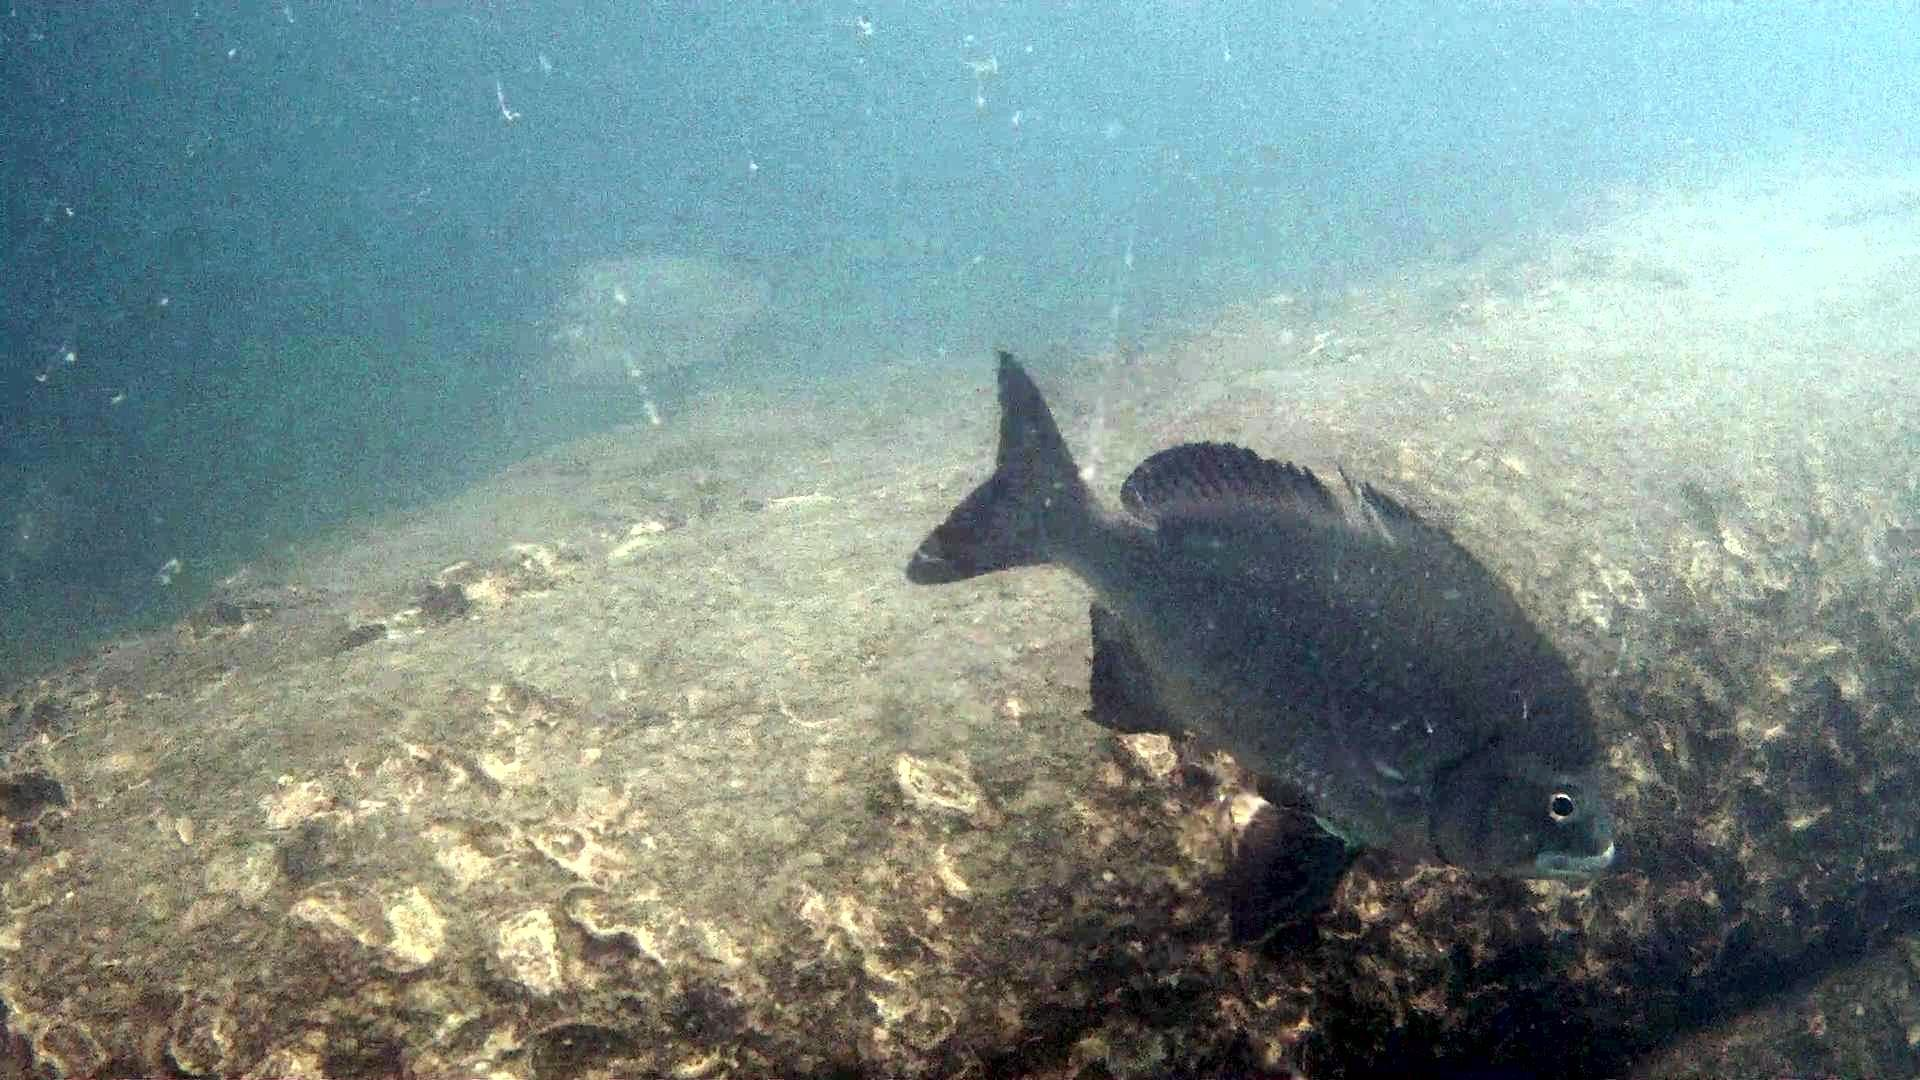acanthopagrus palmaris: (890, 328, 1646, 961)
